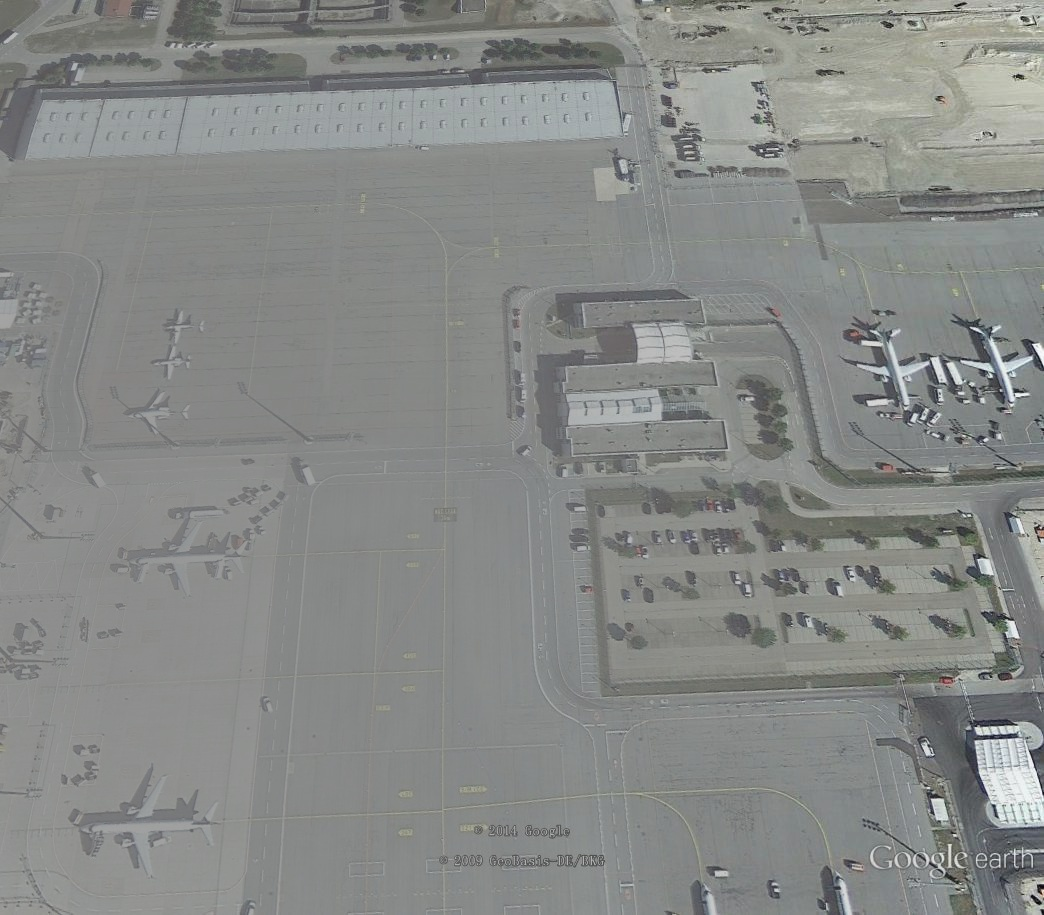aircraft: (72, 772, 225, 880), (124, 517, 255, 598), (852, 325, 937, 417), (958, 322, 1039, 411), (123, 387, 195, 435), (147, 345, 195, 385), (162, 306, 207, 346)
